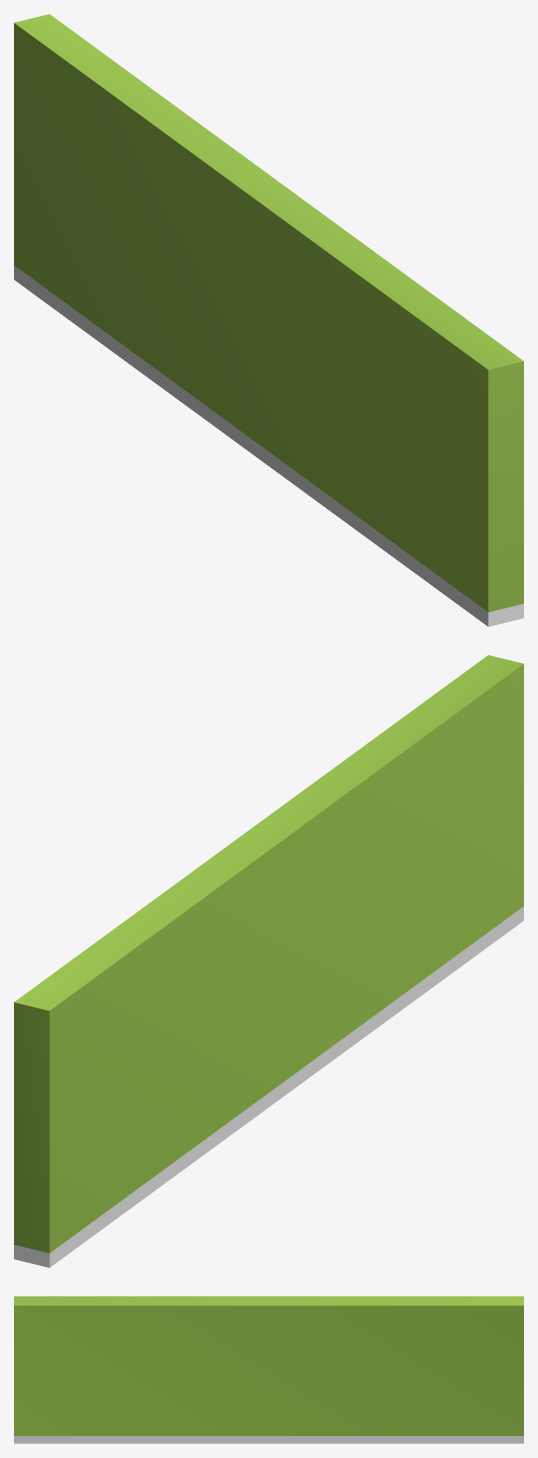
File: paredVerde.fbx
3 renders of one model, top to bottom at view 1: azimuth 30°, elevation 25°; view 2: azimuth 150°, elevation 25°; view 3: azimuth 270°, elevation 25°, orthographic. The views are drawn at different scales.
Parts seen in each view (by area): view 1: pared_1; view 2: pared_1; view 3: pared_1.
Boxes of the visible parts, left/top/right/bottom form: pared_1: left=14, top=14, right=523, bottom=626; pared_1: left=14, top=655, right=523, bottom=1267; pared_1: left=14, top=1296, right=523, bottom=1443.
Size of the model in its own units: 61.24 by 422 by 1413.
